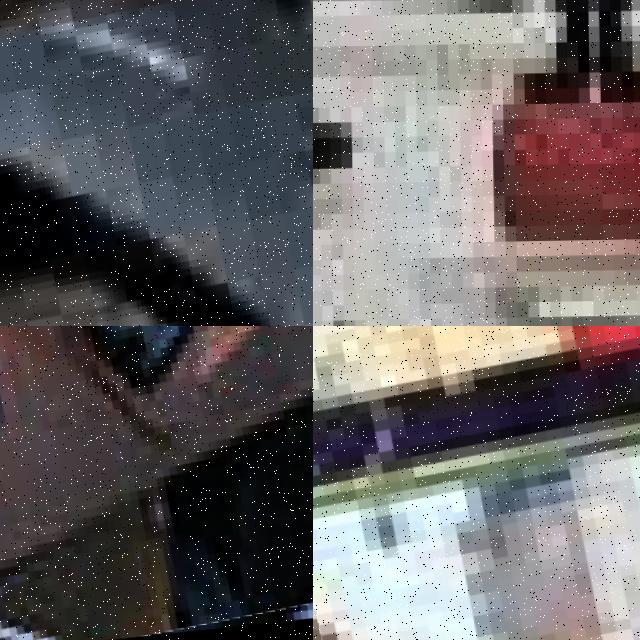0: (0, 0, 313, 326)
drone: (313, 326, 640, 640), (0, 326, 313, 640)
